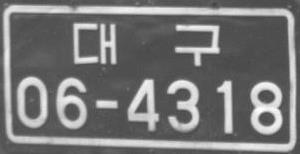0: (16, 75, 48, 128)
1: (211, 80, 241, 134)
3: (166, 78, 200, 131)
4: (127, 78, 159, 131)
6: (55, 76, 87, 131)
8: (250, 81, 283, 135)
대구_D: (72, 21, 220, 64)
